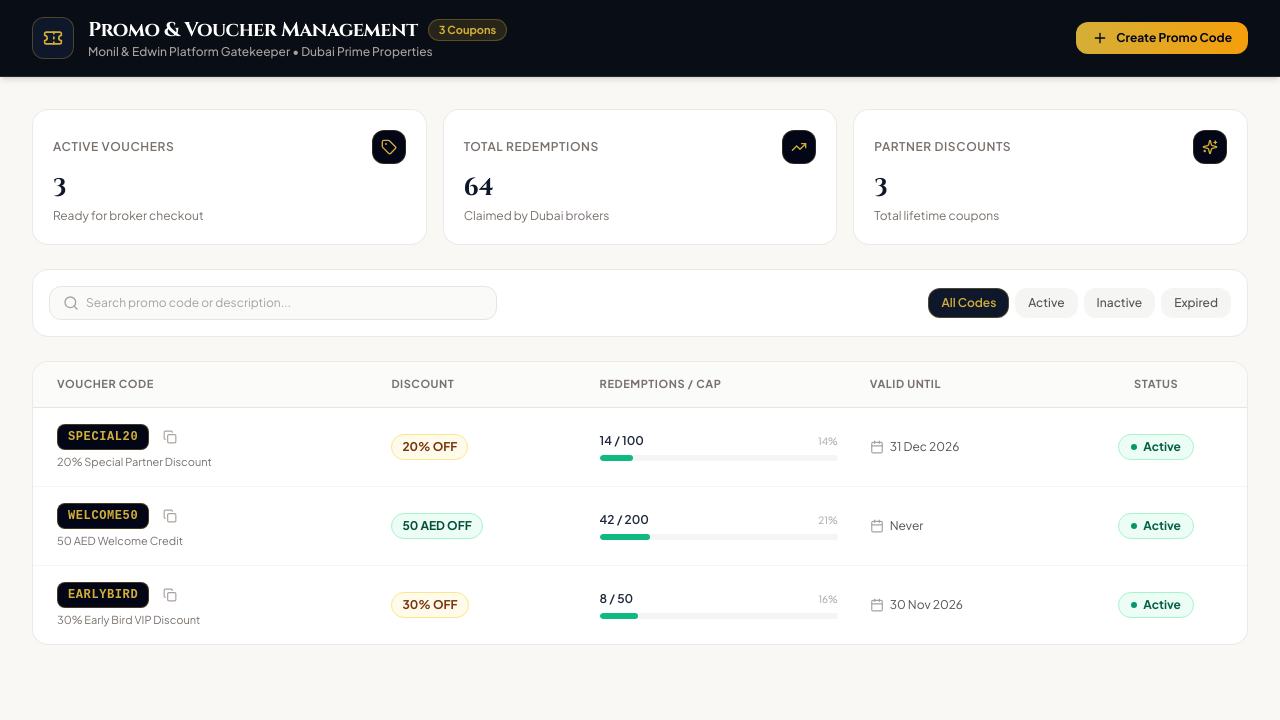
AdminPromos Component › opens create modal, validates required inputs, and creates a percentage promo
# Open modal
Click the button "Create Promo Code".
click(1162, 38)  # box [1076, 22, 1248, 54]
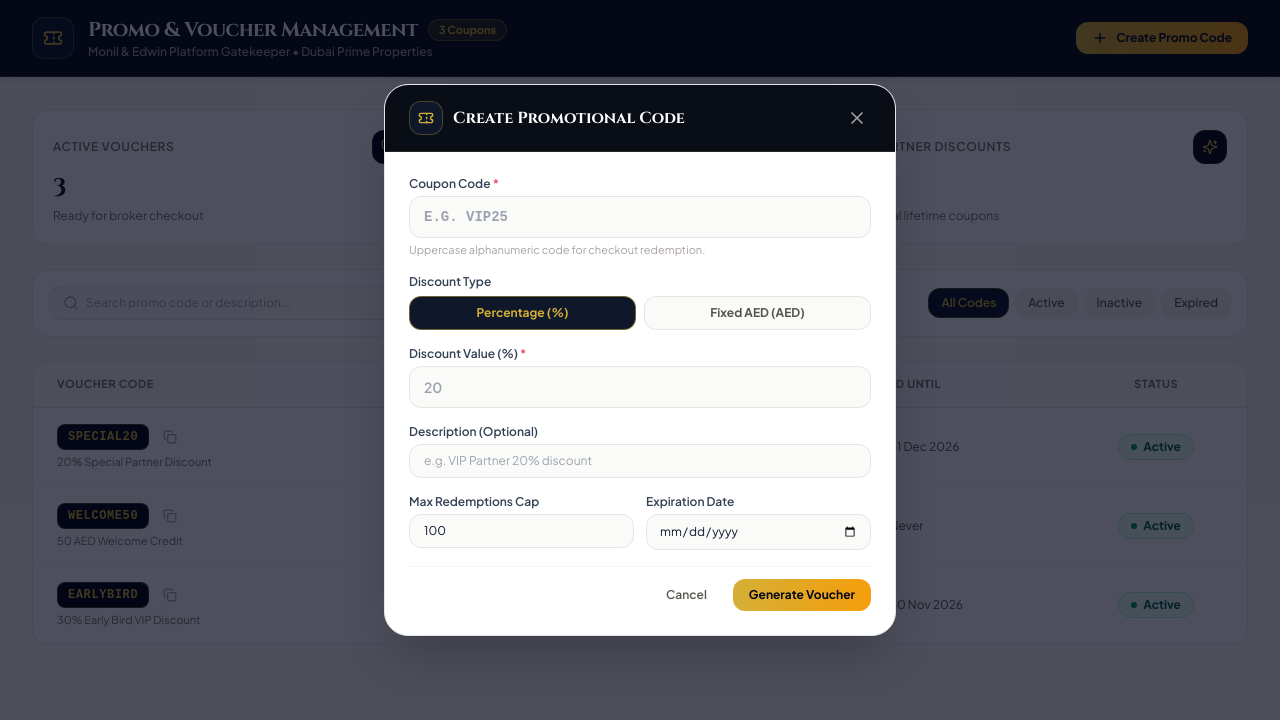
Now the dialog is shown
Now the heading "Create Promotional Code" is shown, box [453, 106, 685, 130]
# Auto uppercase code input
Type "summer25" into the field labelled "Coupon Code *".
click(640, 217); type("summer25")  # box [409, 196, 871, 238]
# Discount value
Type "25" into the number field labelled "Discount Value (%) *".
click(640, 387); type("25")  # box [409, 366, 871, 408]
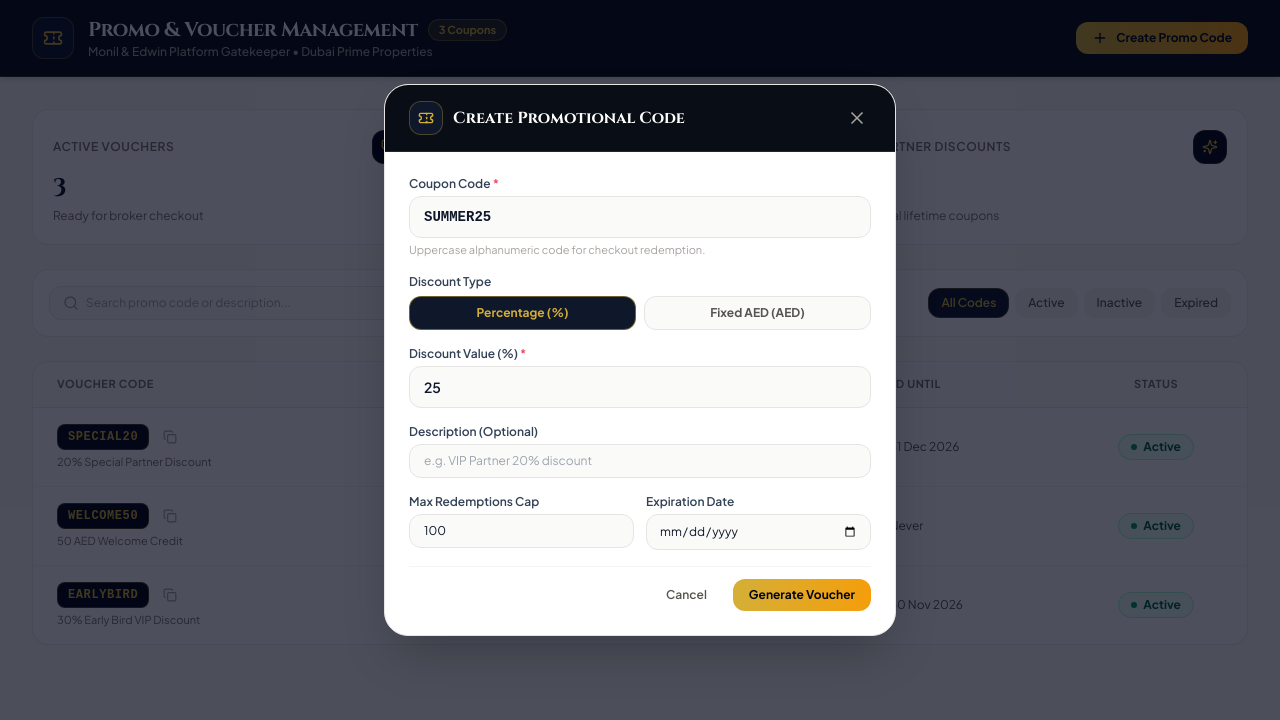
Type "Summer Launch Special" into the field labelled "Description (Optional)".
click(640, 461); type("Summer Launch Special")  # box [409, 444, 871, 478]
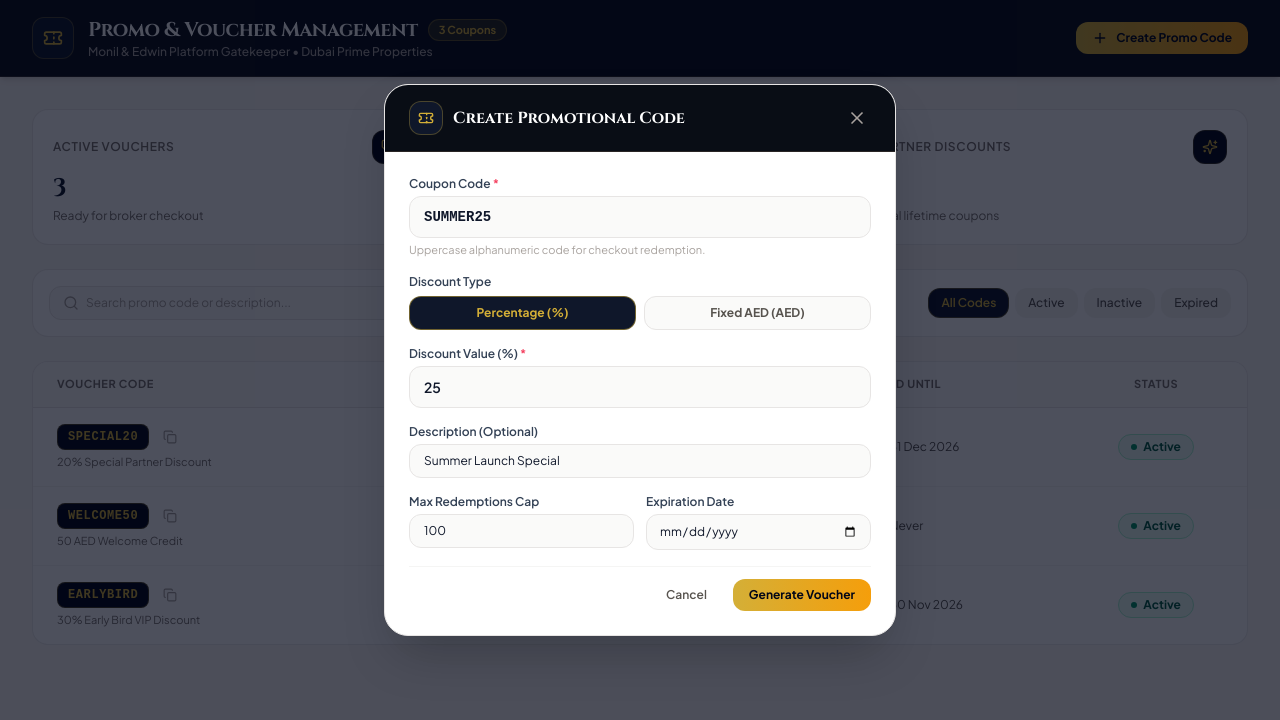
# Max uses
Type "150" into the number field labelled "Max Redemptions Cap".
click(522, 531); type("150")  # box [409, 514, 634, 548]
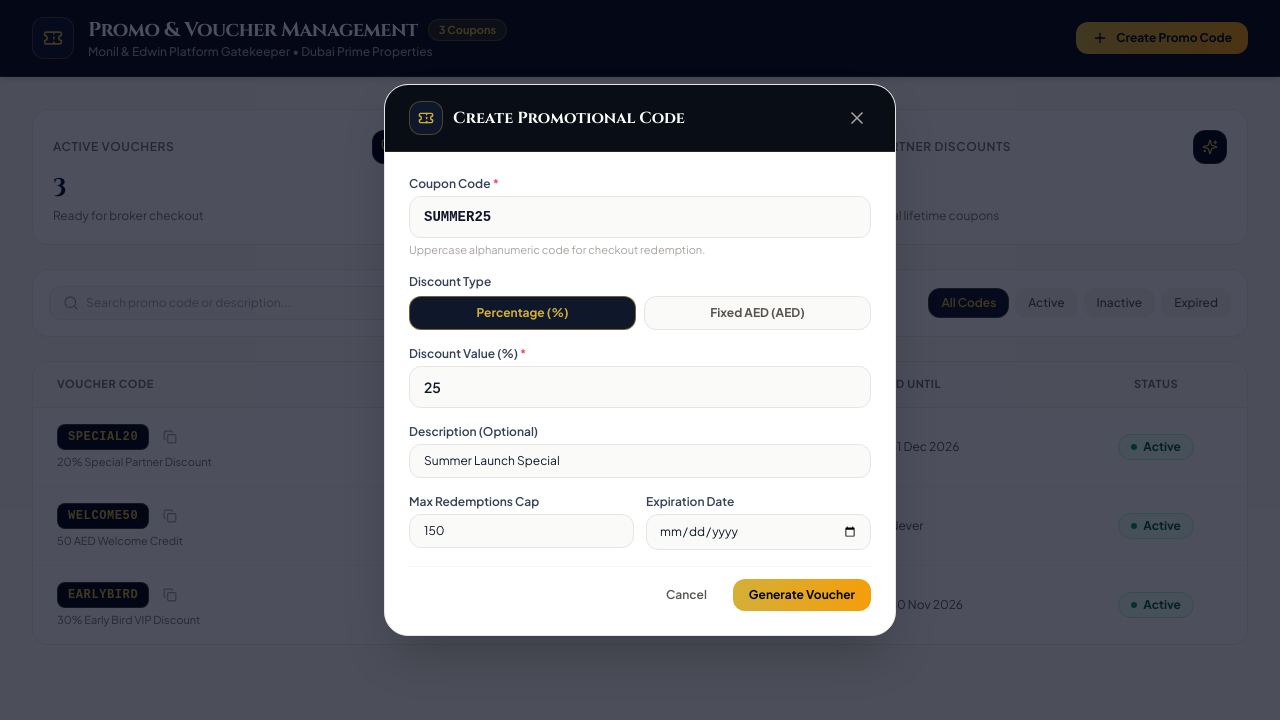
# Expiry date
Type "2026-09-30" into the date field labelled "Expiration Date".
click(758, 532); type("2026-09-30")  # box [646, 514, 871, 550]
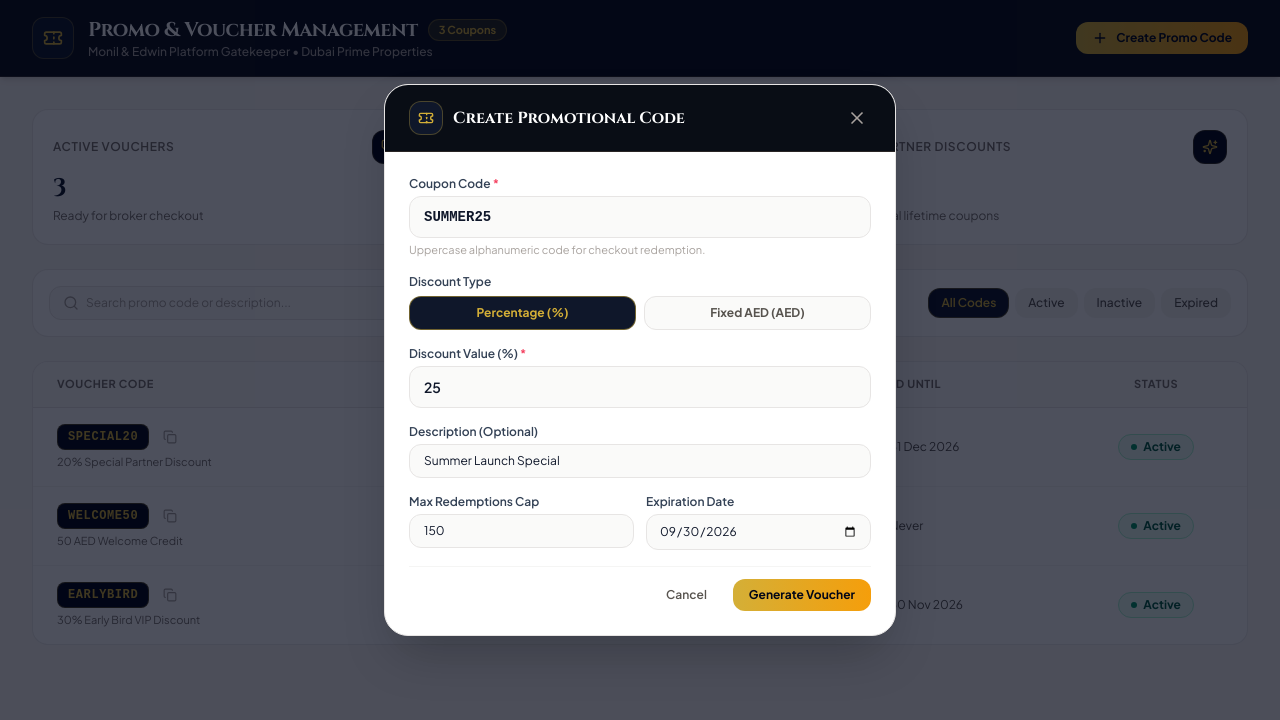
# Submit form
Click the button "Generate Voucher".
click(802, 595)  # box [733, 579, 871, 611]
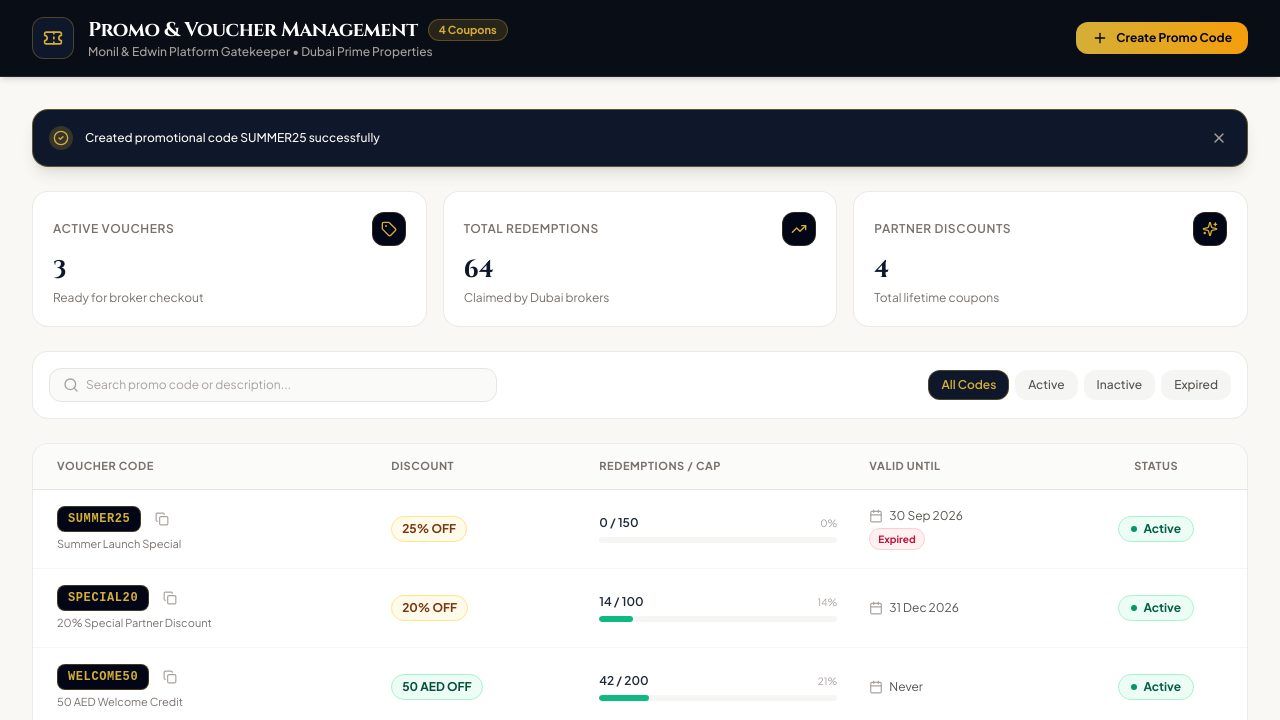
Now the text "SUMMER25" is shown, box [57, 506, 141, 532]
Now the text "25% OFF" is shown, box [402, 520, 456, 536]
Now the dialog is gone
